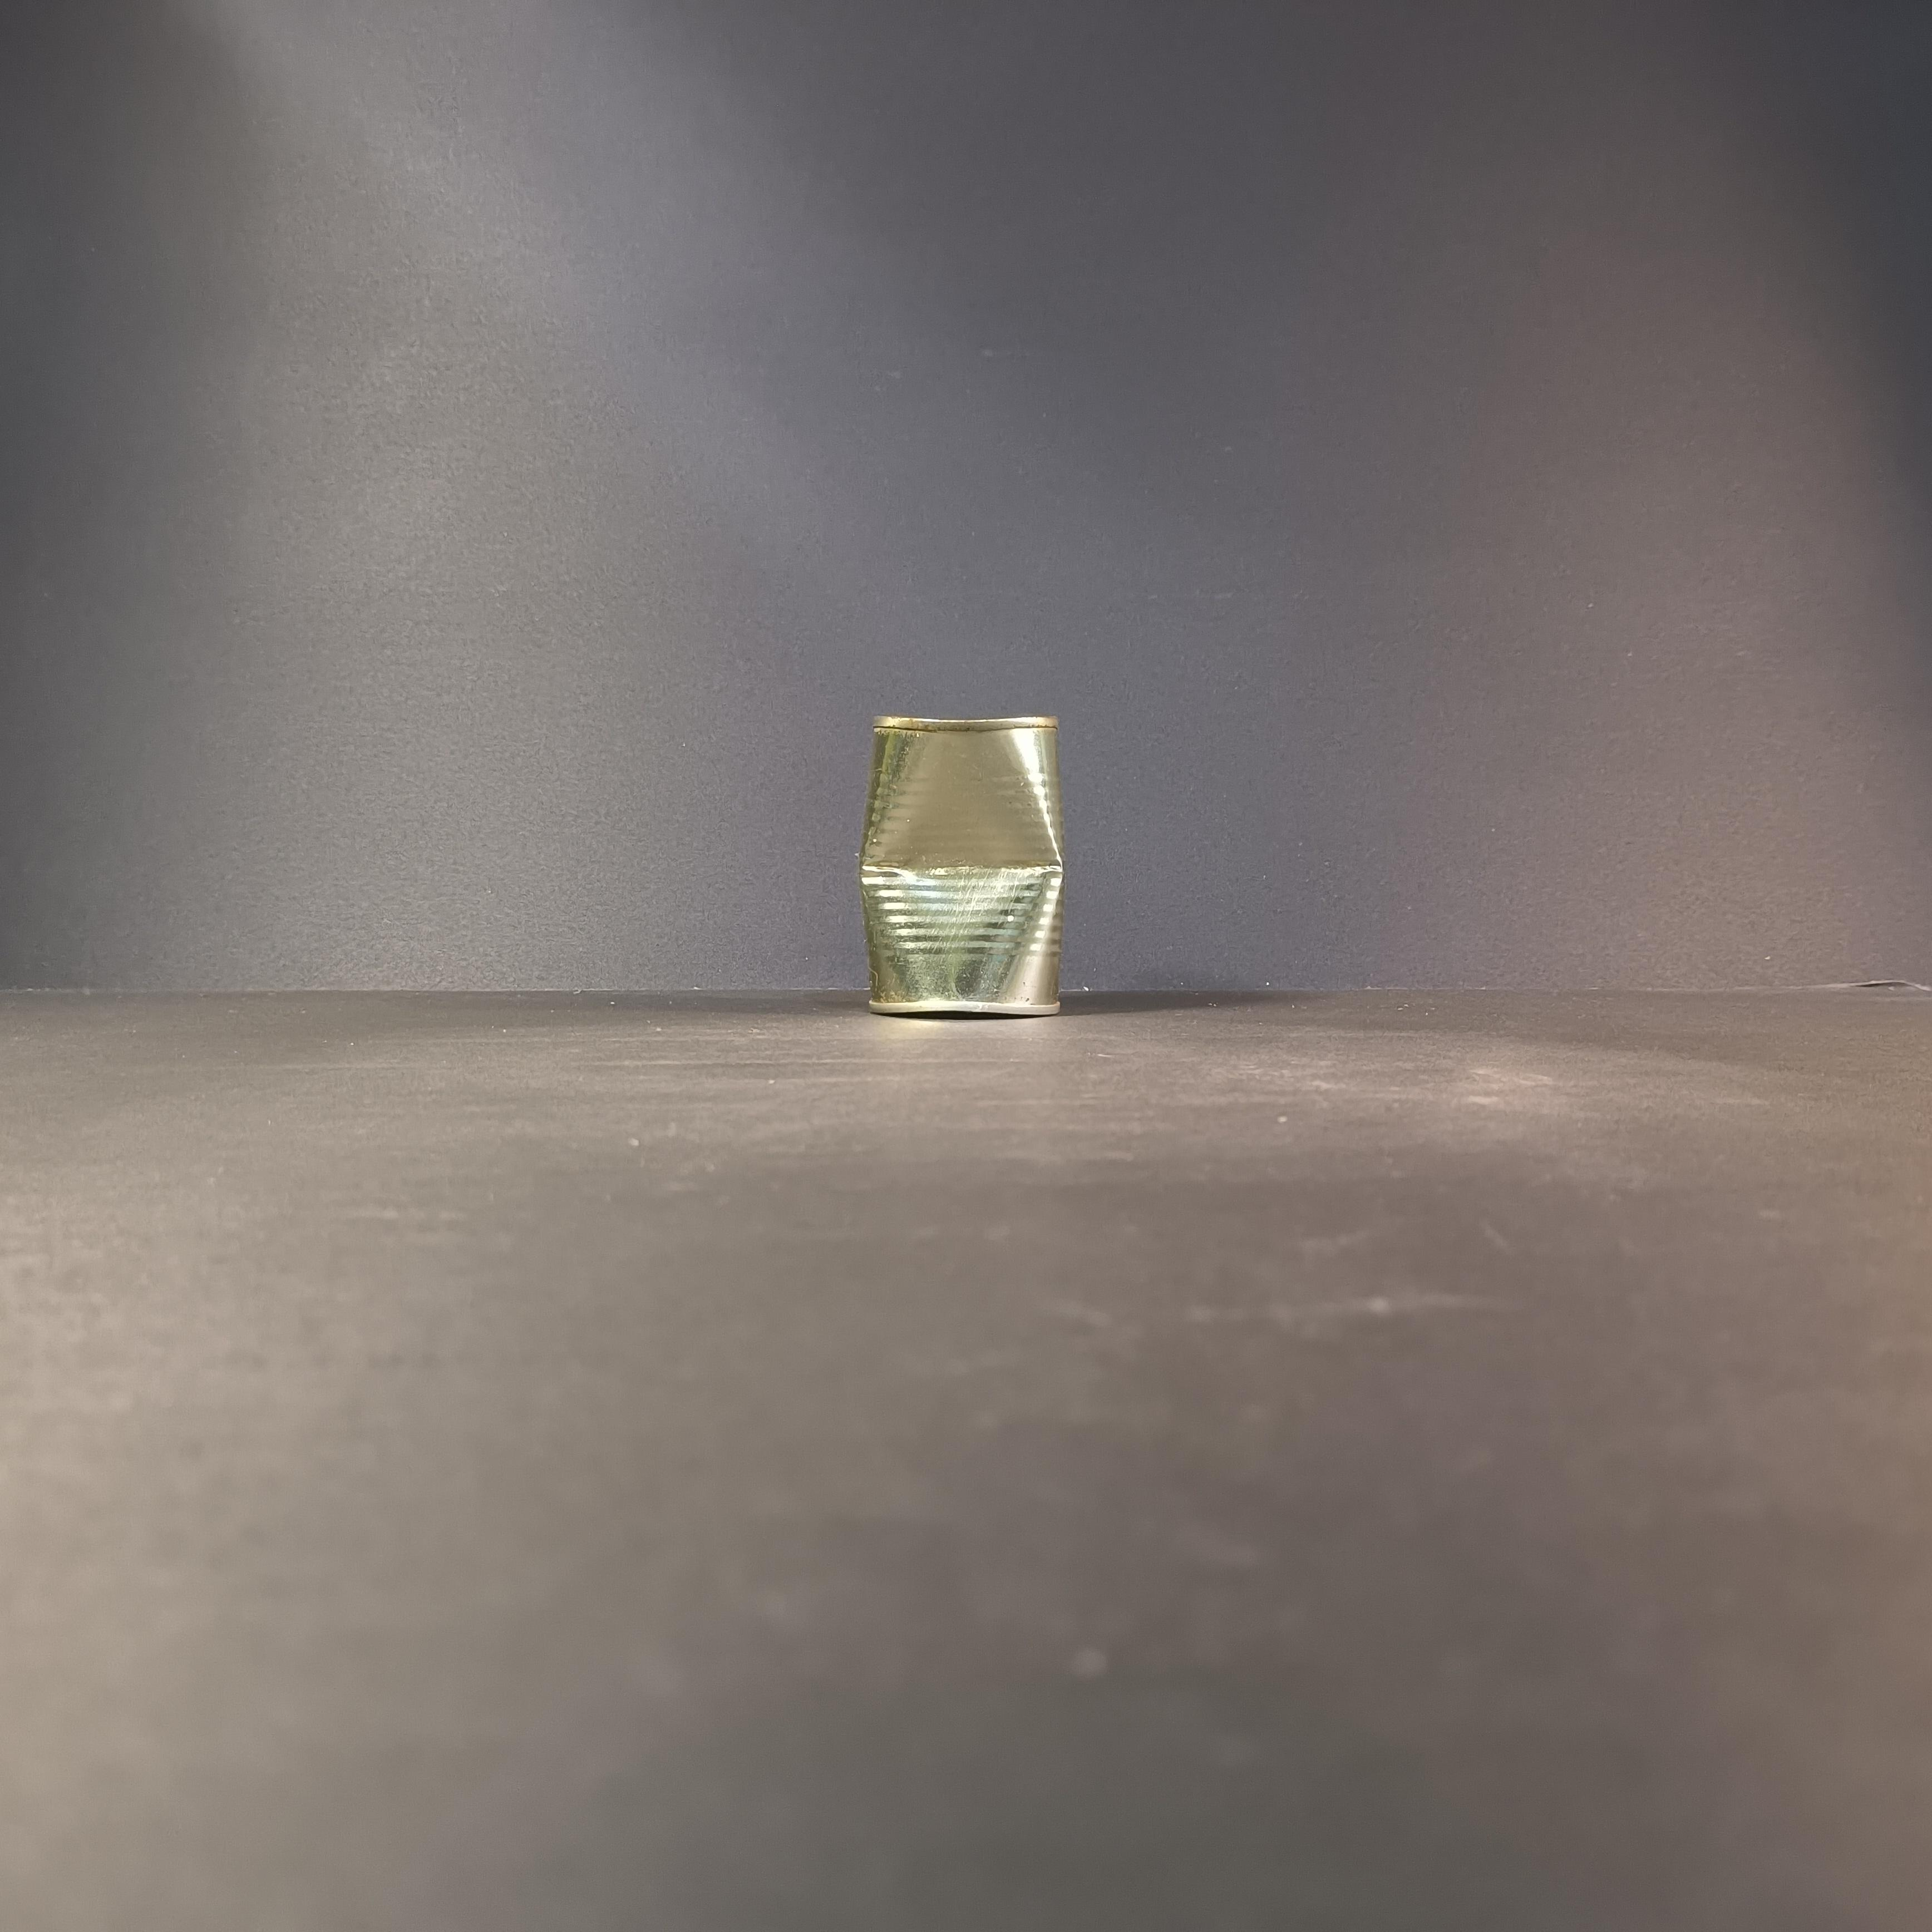Major Defect: (858, 713, 1065, 1014)
